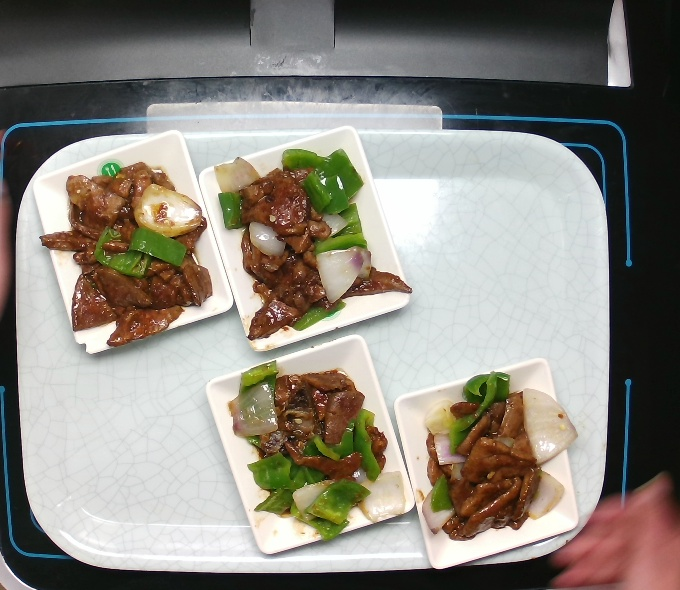wcq-ZhuGan: (219, 139, 415, 344), (31, 152, 215, 362), (216, 357, 401, 549), (414, 359, 574, 544)
